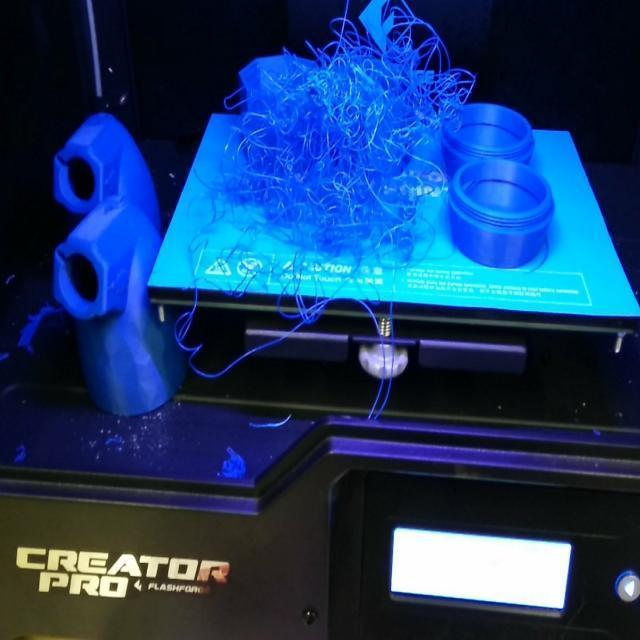spaghetti: (251, 24, 470, 283)
